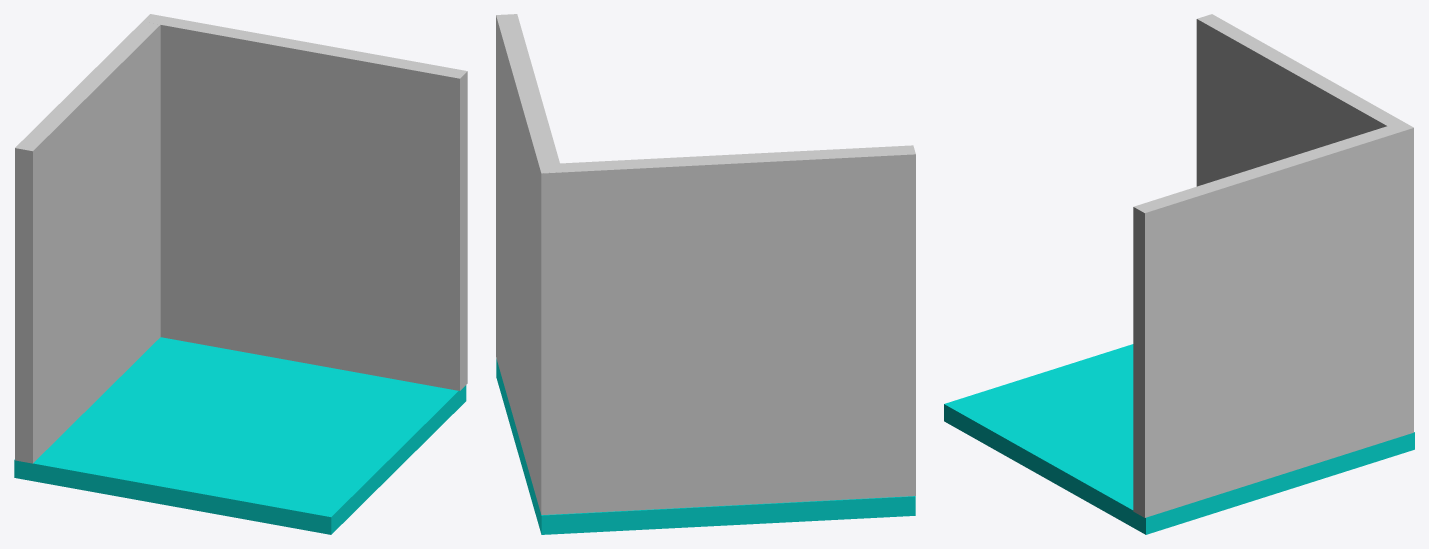
The model's file is base_room.glb.
3 renders of one model, left to right at view 1: azimuth 30°, elevation 25°; view 2: azimuth 150°, elevation 25°; view 3: azimuth 270°, elevation 25°, orthographic. The views are drawn at different scales.
Parts seen in each view (by area): view 1: SM_RightWall, SM_Floor, SM_LeftWall; view 2: SM_LeftWall, SM_RightWall, SM_Floor; view 3: SM_RightWall, SM_Floor, SM_LeftWall.
Boxes of the visible parts, x1,y1,x2,y2 form: SM_RightWall: [143, 14, 467, 390]; SM_Floor: [14, 337, 466, 534]; SM_LeftWall: [15, 14, 160, 463]; SM_LeftWall: [541, 145, 915, 514]; SM_RightWall: [496, 14, 562, 514]; SM_Floor: [496, 358, 915, 534]; SM_RightWall: [1133, 121, 1413, 517]; SM_Floor: [944, 344, 1414, 534]; SM_LeftWall: [1196, 14, 1413, 432].
Size of the model in its own units: 32.39 by 24.4 by 32.33.
